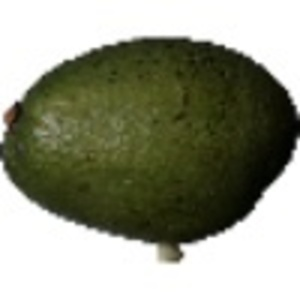abacate: (1, 35, 297, 245)
